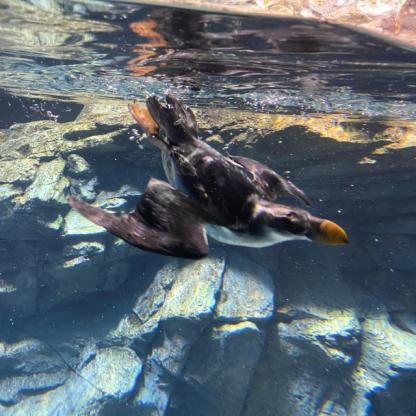puffin: (68, 86, 351, 258)
